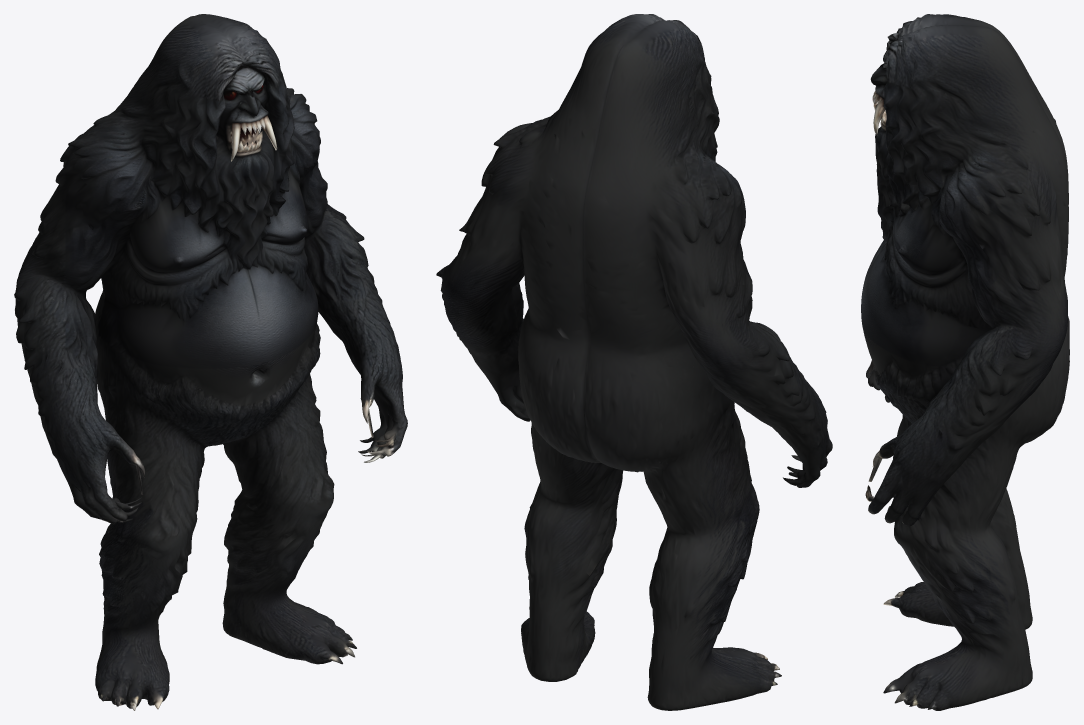
The model's file is genderuwo.glb.
3 views of the same model, side by side, from view 1: azimuth 30°, elevation 25°; view 2: azimuth 150°, elevation 25°; view 3: azimuth 270°, elevation 25° (orthographic).
Parts seen in each view (by area): view 1: material; view 2: material; view 3: material.
Boxes of the visible parts, box(x1,y1,x2,y2) form: material: box(14, 14, 407, 710); material: box(436, 14, 832, 710); material: box(861, 14, 1069, 710).
Bounding box in the file's own units: 0.6366 × 1.11 × 0.3339.
1 material, 1 textured.
